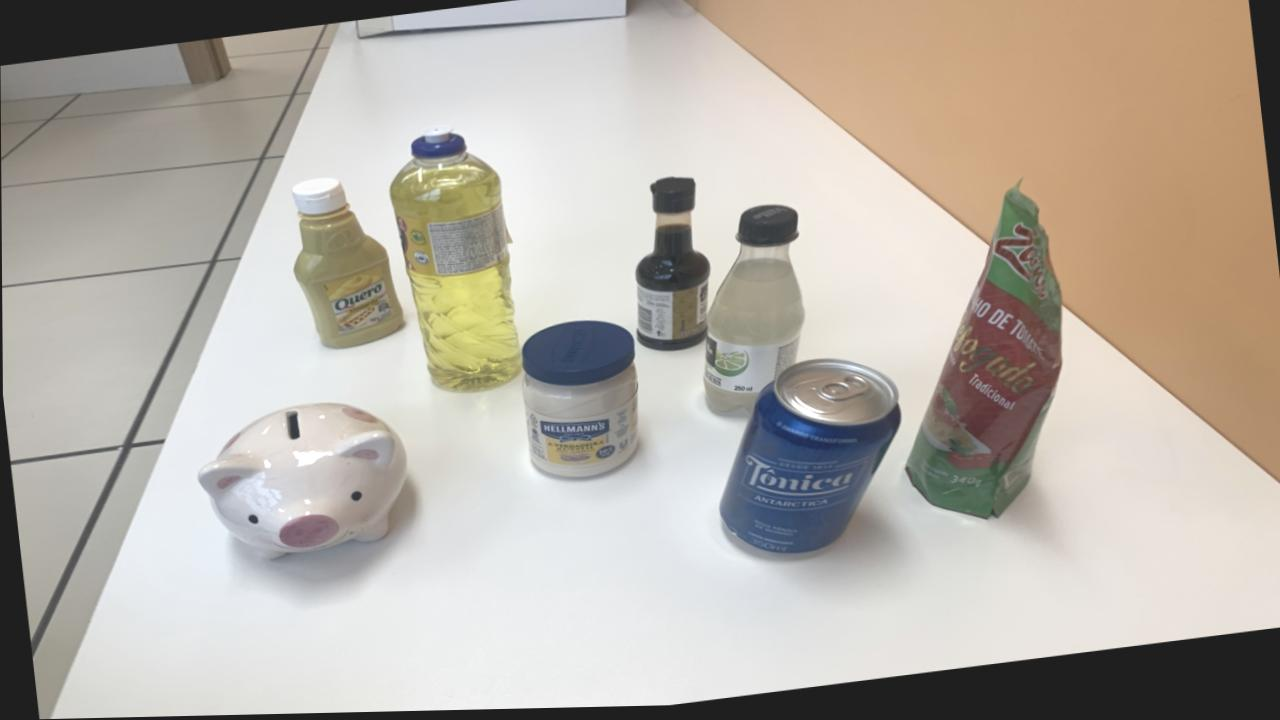Detergent-Cleanup_Items: (390, 126, 521, 394)
English_Sauce-Pantry_Items: (635, 179, 710, 354)
Mayonnaise-Pantry_Items: (521, 322, 638, 480)
Mustard-Pantry_Items: (292, 178, 403, 349)
Pig_Safe-Miscellaneous: (198, 403, 407, 559)
Soda-Drinks: (703, 207, 805, 416)
Tomato_Sauce-Pantry_Items: (905, 190, 1062, 522)
Tonic-Drinks: (718, 362, 900, 558)
